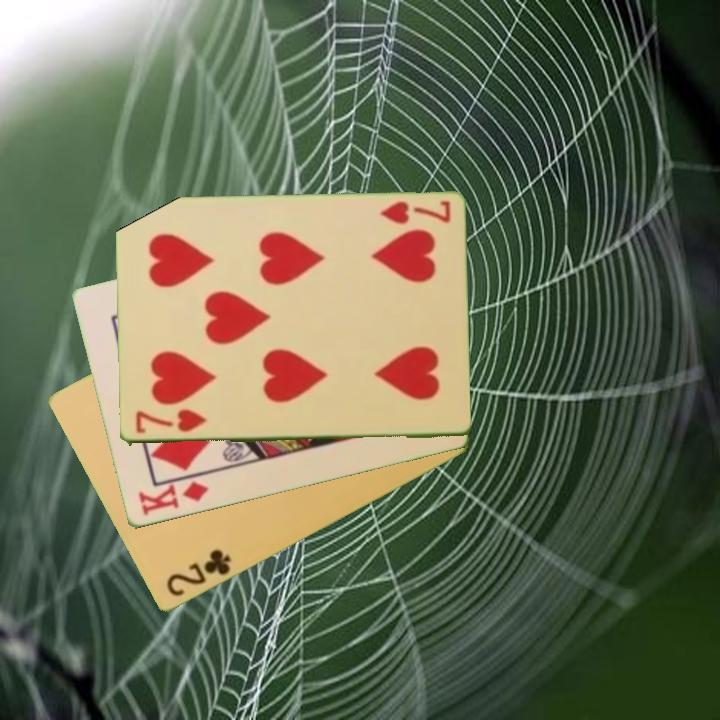2c: (162, 546, 234, 600)
7h: (131, 406, 210, 437), (376, 198, 453, 227)
Kd: (134, 478, 212, 519)
